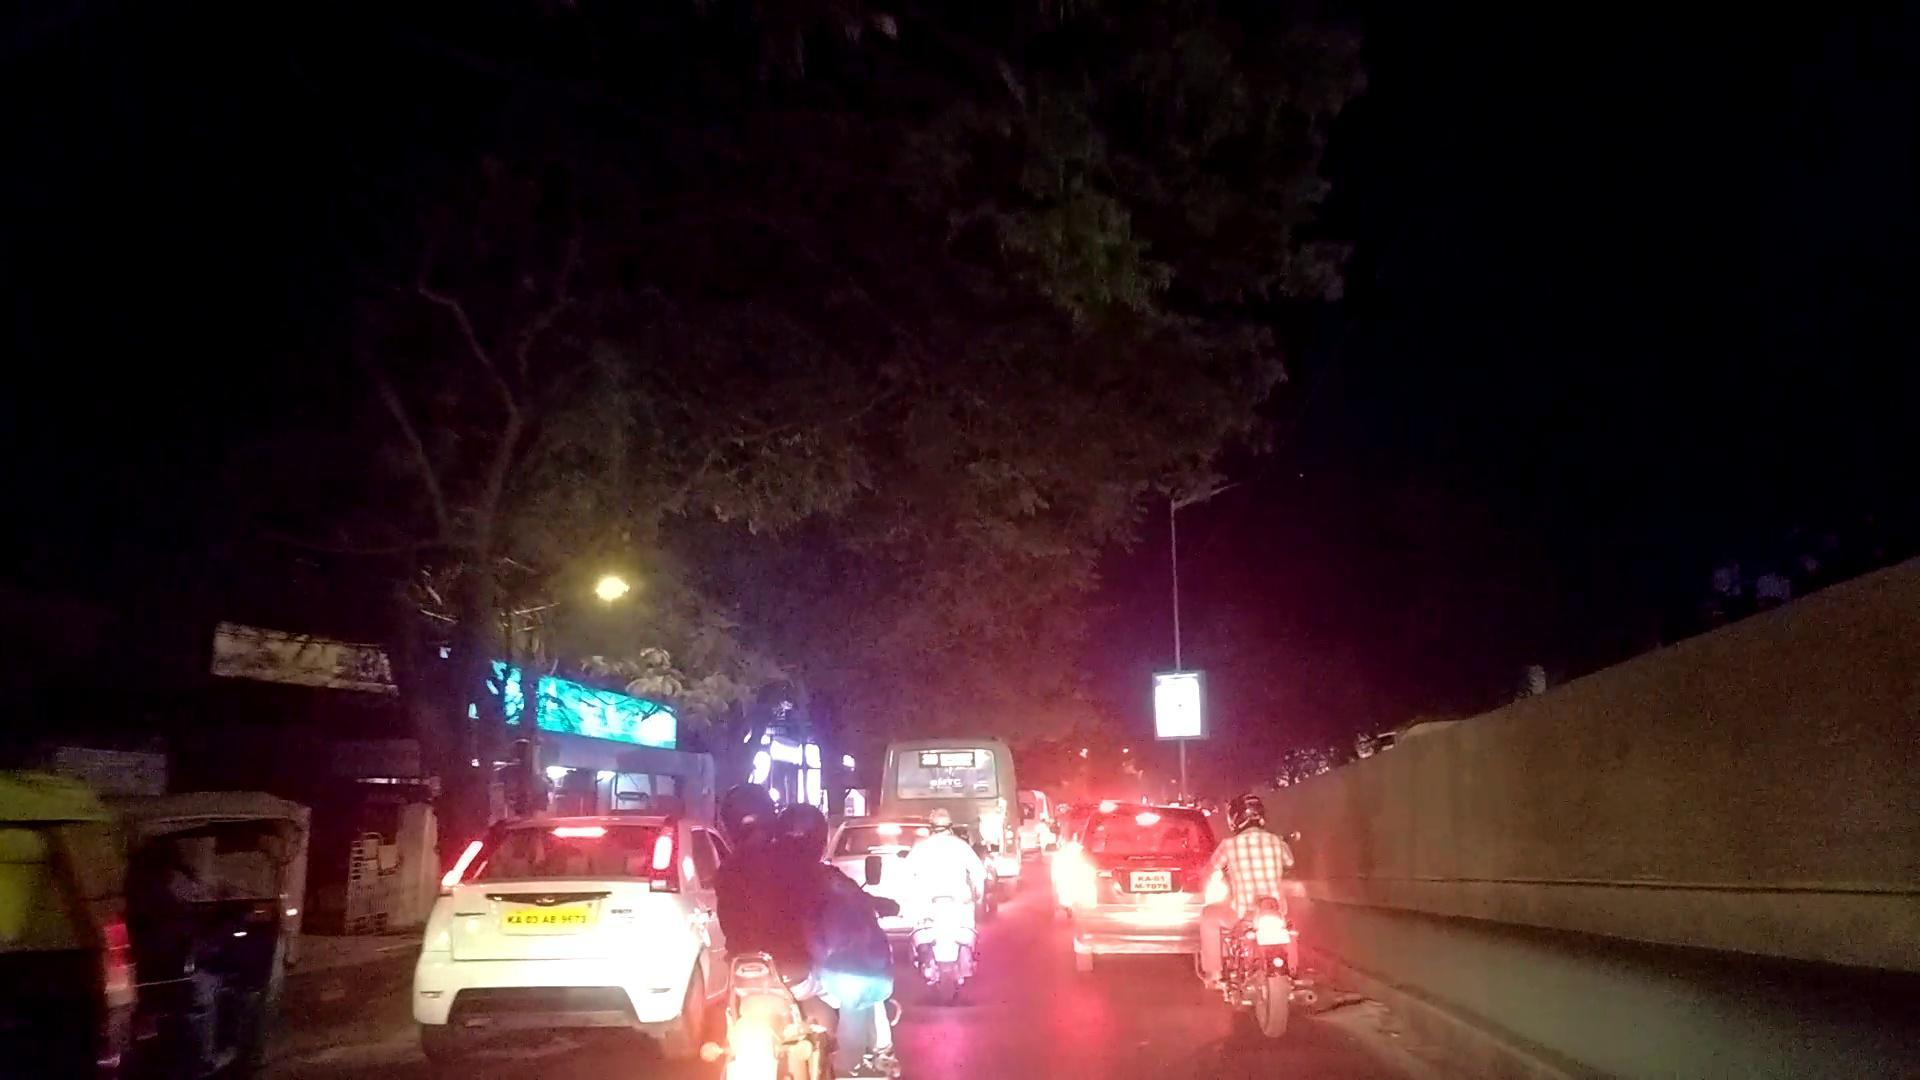on: (40, 22, 1920, 1080)
